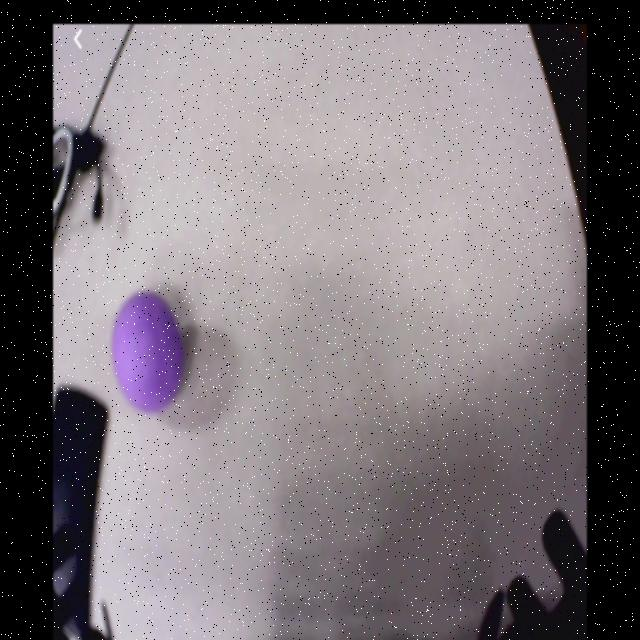ball: (112, 293, 184, 408)
